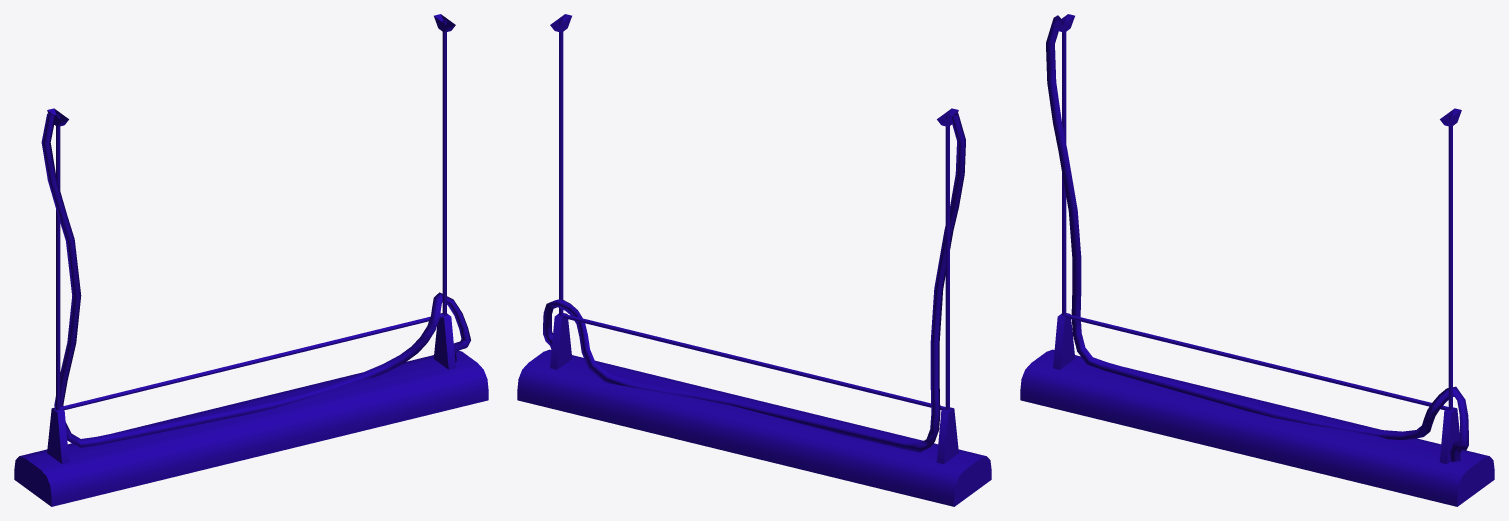
The model's file is LampCeiling_02.FBX.
3 renders of one model, left to right at view 1: azimuth 30°, elevation 25°; view 2: azimuth 150°, elevation 25°; view 3: azimuth 330°, elevation 25°, orthographic.
Parts seen in each view (by area): view 1: SM_LampCeilingA_01_LOD0; view 2: SM_LampCeilingA_01_LOD0; view 3: SM_LampCeilingA_01_LOD0.
Part boxes in pixels (left/top/right/bottom): SM_LampCeilingA_01_LOD0: left=14, top=14, right=488, bottom=506; SM_LampCeilingA_01_LOD0: left=517, top=14, right=991, bottom=506; SM_LampCeilingA_01_LOD0: left=1020, top=14, right=1494, bottom=506.
Size of the model in its own units: 200 by 168 by 29.56.
